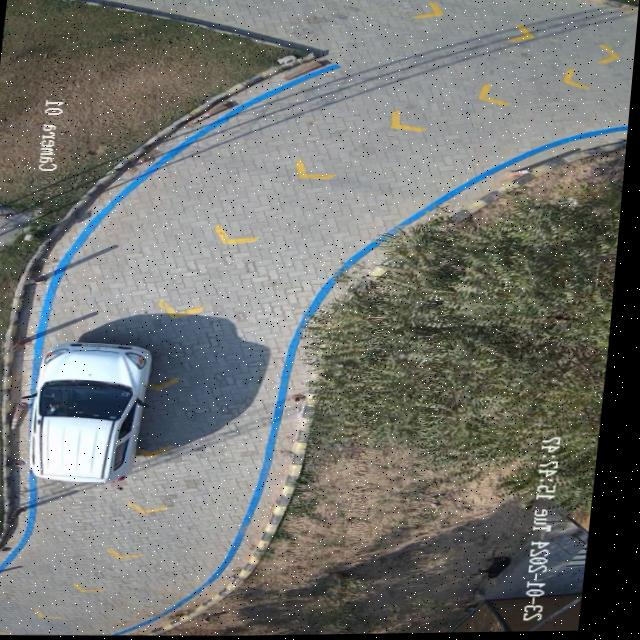car: (34, 342, 156, 484)
